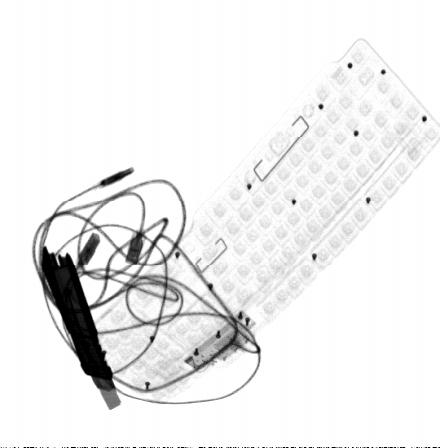Knife: (41, 244, 123, 412)
